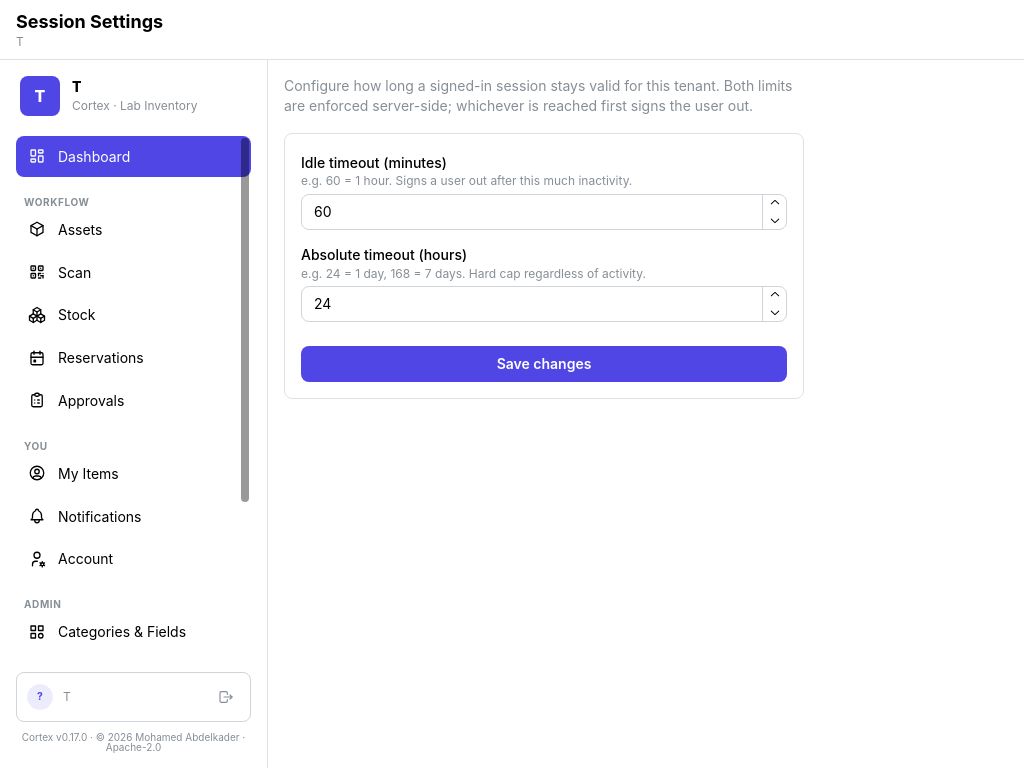
Test: SessionSettingsScreen › blocks submission with a client-side validation error when idle minutes is out of bounds
Replace the text in the field with test id "session-settings-idle-minutes" with "4". click: point(544, 212)
box: [301,194,787,230]
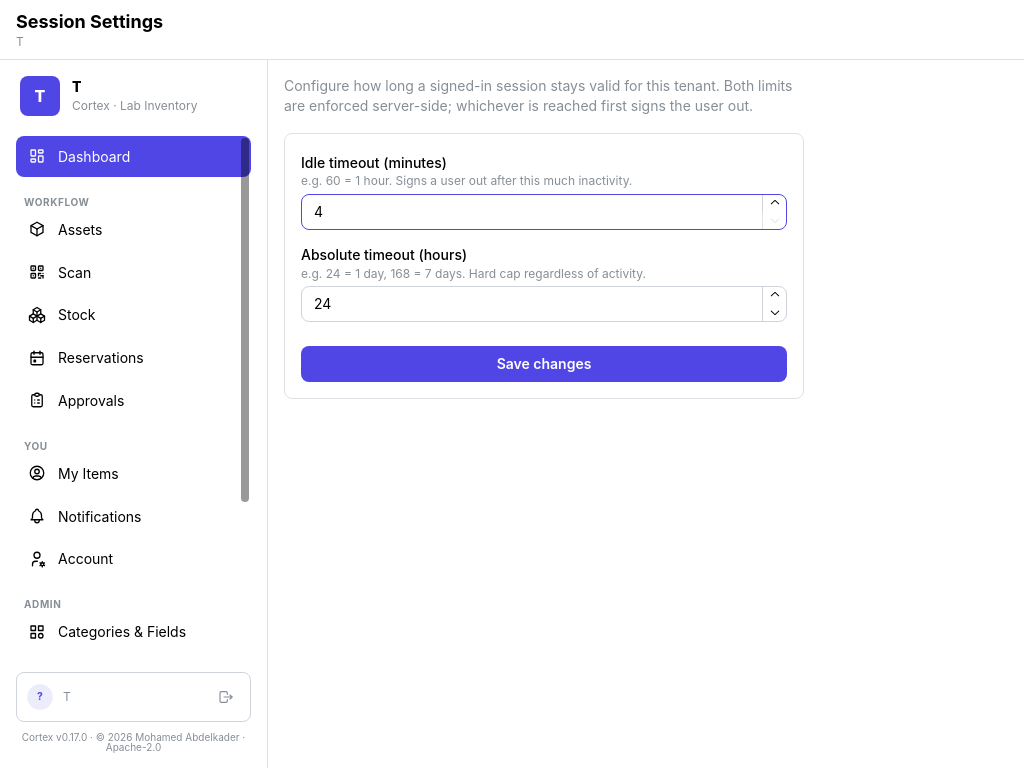
Click the button with test id "session-settings-submit". click: point(544, 364)
box: [301,346,787,382]
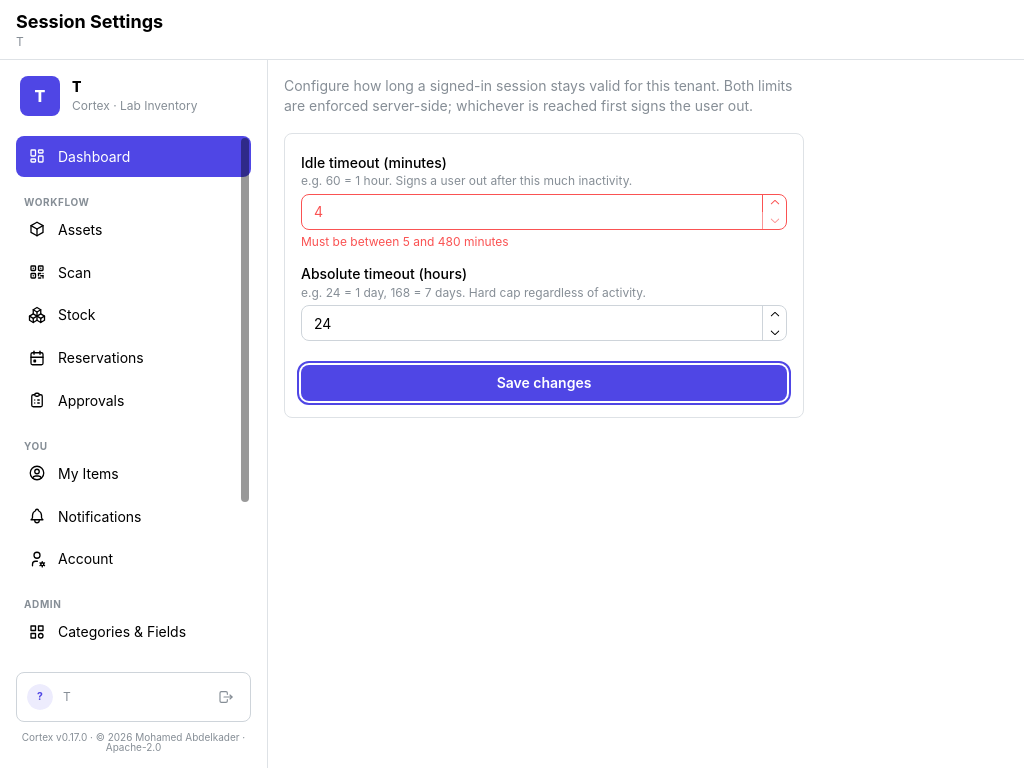
Expected: the text "Must be between 5 and 480 minutes" is shown, [301,234,509,249]
